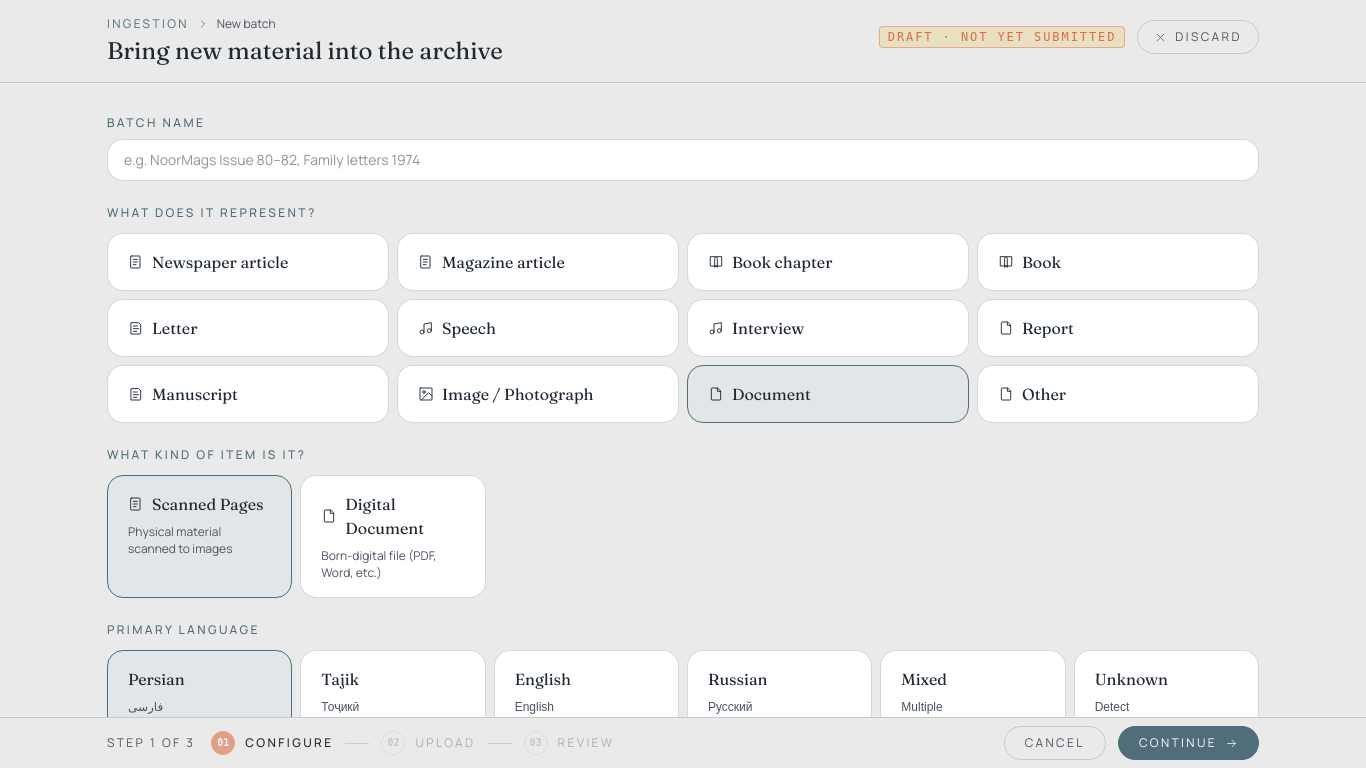
Test: /ingestion/new +page.svelte localization › enables the exact preset set for audio
Step 1. Click the button "Other" → (1044, 394), box [977,365,1259,423]
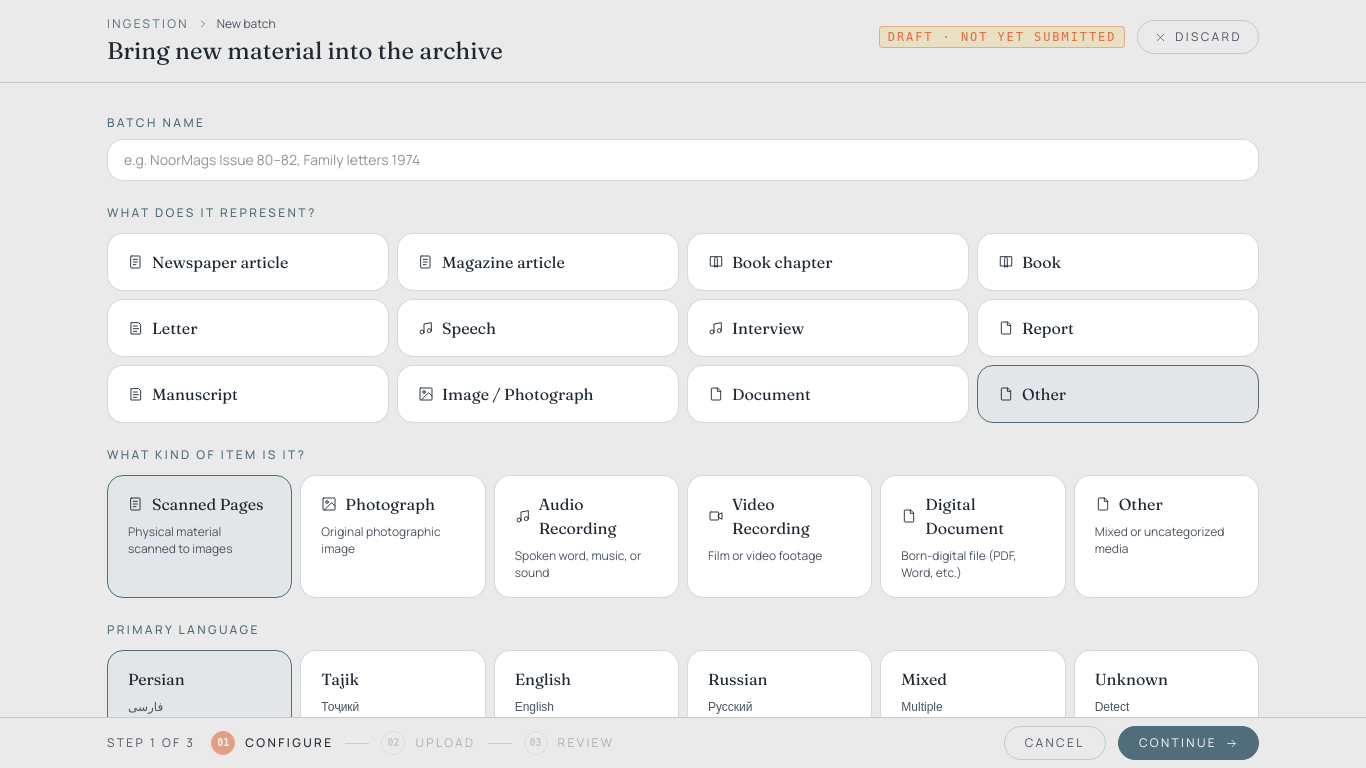
Step 2. Click the text "Audio Recording" → (578, 516), box [539,494,616,538]
(page scrolled)
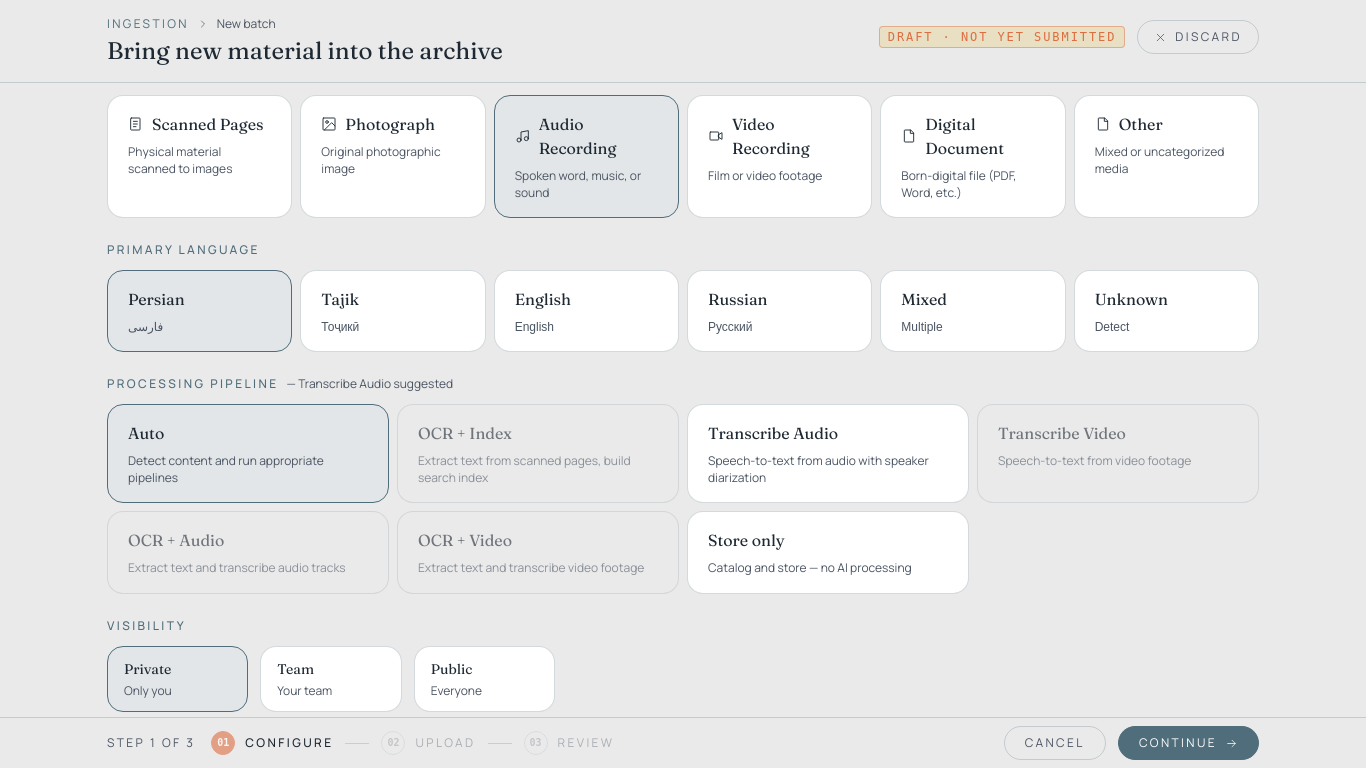
Check: the button that starts with "OCR + Index" is disabled, box [397,404,679,503]
Check: the button that starts with "Transcribe Audio" is enabled, box [687,404,969,503]
Check: the text "— Transcribe Audio suggested" is shown, box [286,376,453,392]
